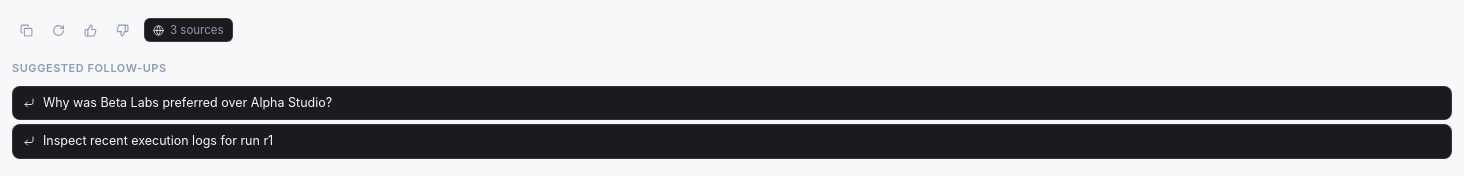
Test: StreamingText › handles copy action to clipboard
Click the button named "Copy text": (26, 30) [12, 16, 40, 44]
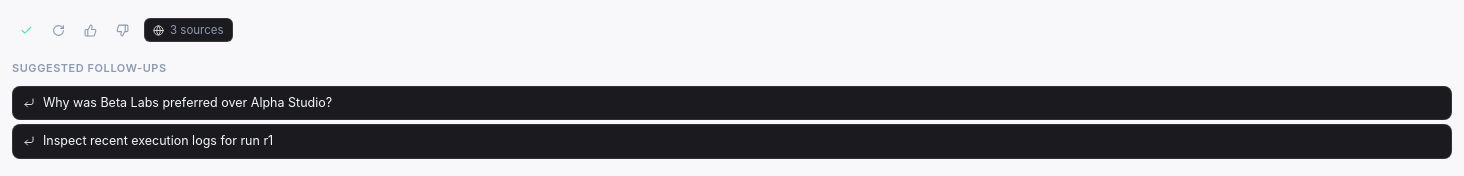
Now the button named "Copied" is shown, box [12, 16, 40, 44]
